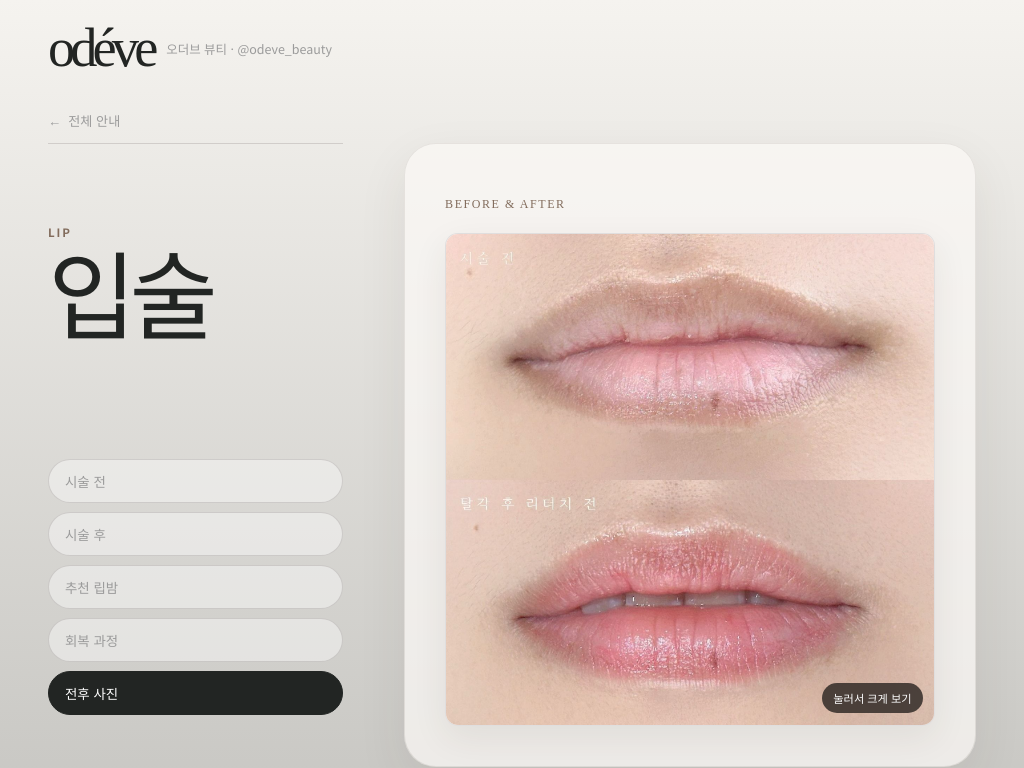
Test: guide interactions › opens the current image and closes it with Escape
Click the button named "입술 시술 전과 탈각 후 리터치 전 비교 크게 보기" at coordinates (690, 479), box [445,233,935,726]
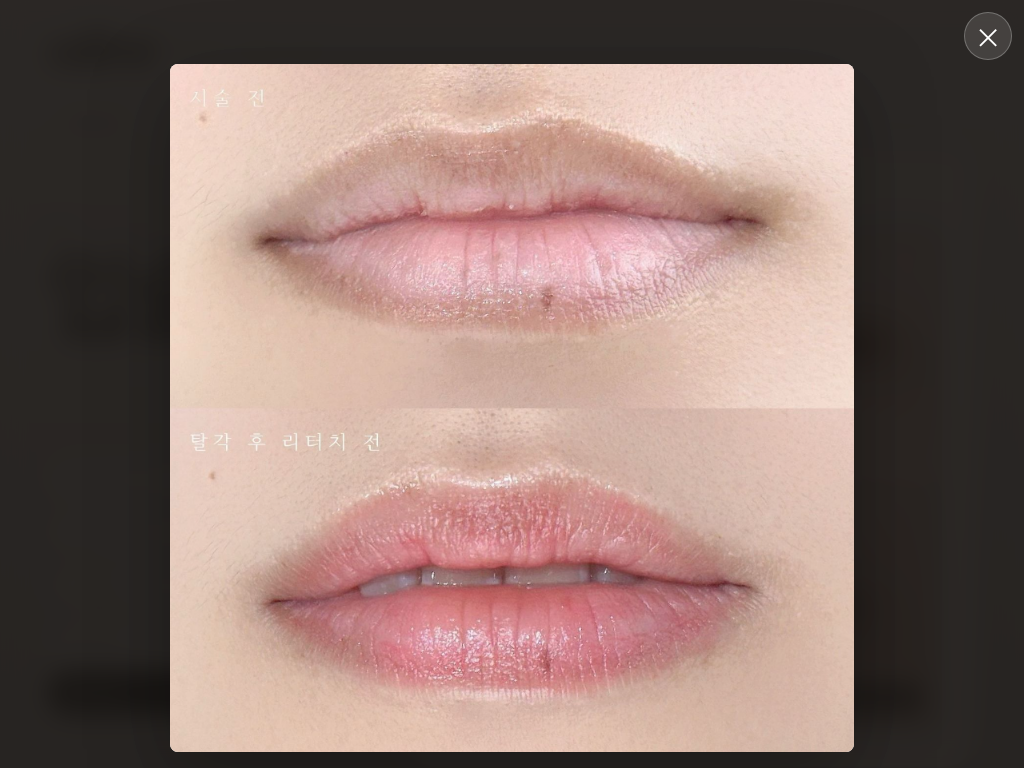
Expected: the dialog named "이미지 크게 보기" is shown
Press Escape
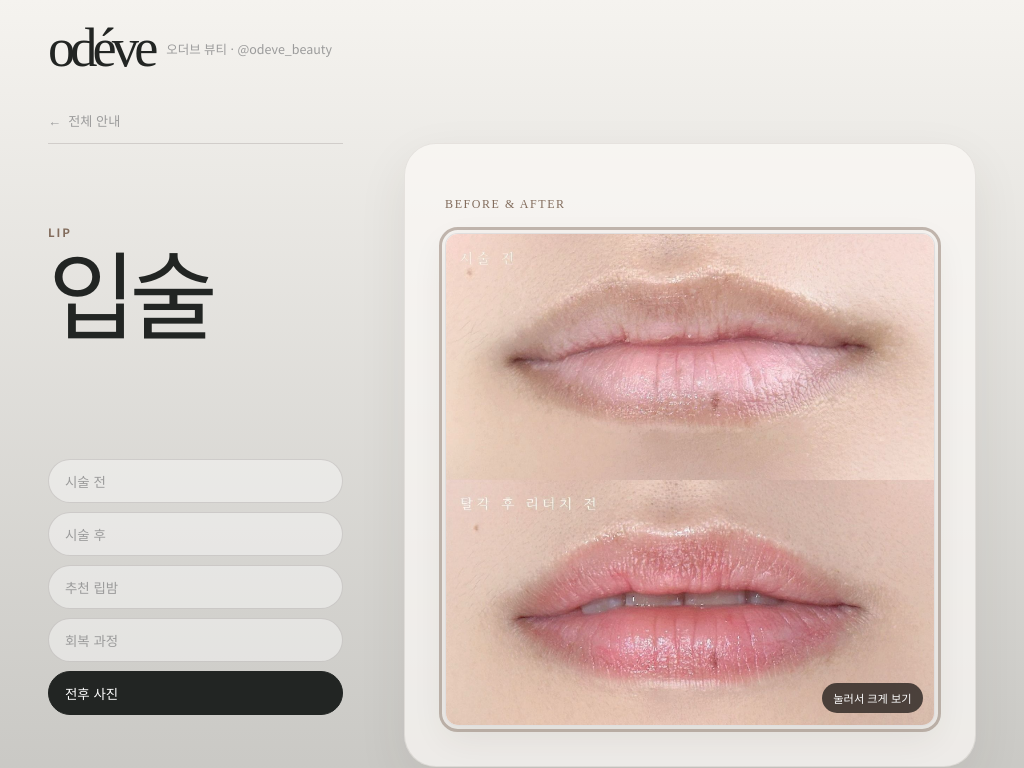
Expected: the dialog is gone
